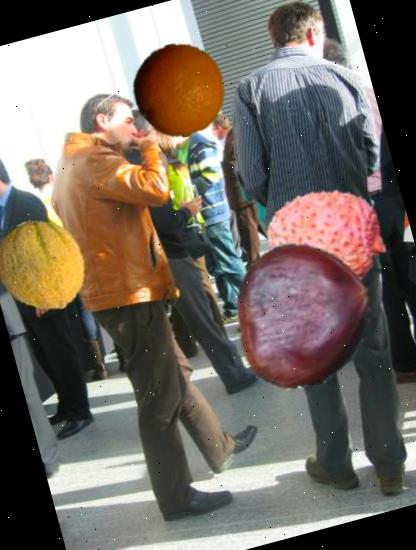Cantaloupe: (0, 208, 99, 324)
Chestnut: (216, 225, 392, 402)
Lychee: (251, 161, 403, 313)
Orange: (122, 32, 238, 148)
